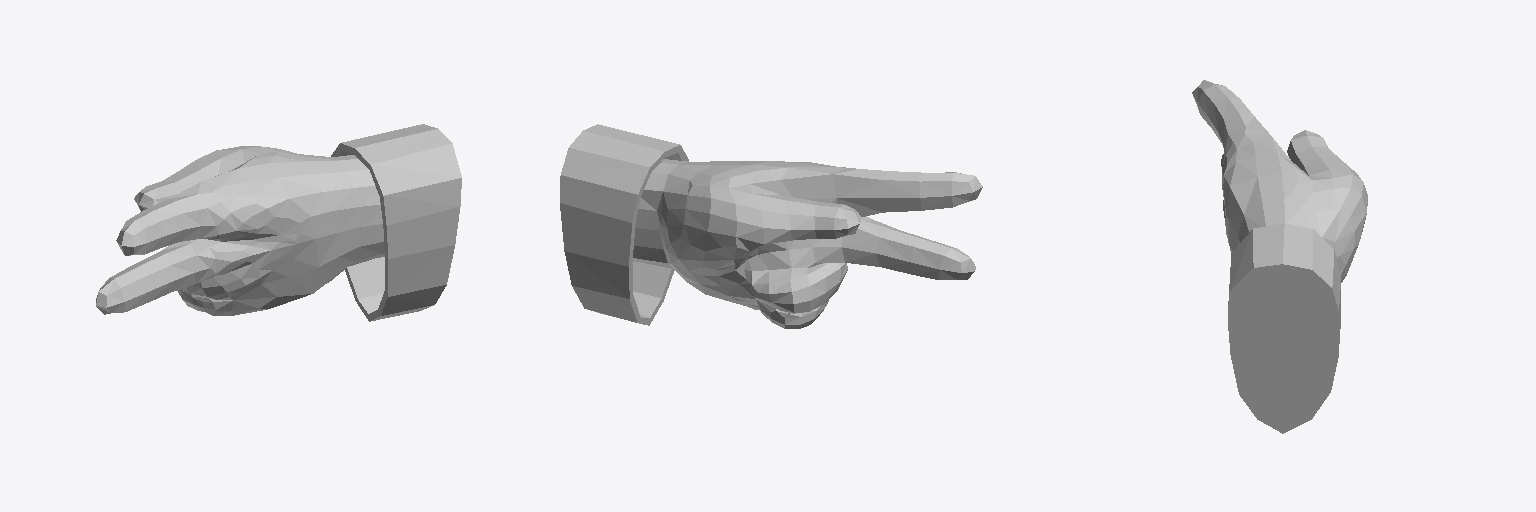
File: char1-hand-left.obj
3 views of the same model, side by side, from view 1: azimuth 30°, elevation 25°; view 2: azimuth 150°, elevation 25°; view 3: azimuth 270°, elevation 25° (orthographic).
Visible parts, largest first — view 1: hand-left; view 2: hand-left; view 3: hand-left.
Boxes of the visible parts, <box> form: hand-left: <box>96,124,461,321</box>; hand-left: <box>560,124,982,328</box>; hand-left: <box>1192,80,1367,433</box>.
Size of the model in its own units: 0.3688 by 0.1858 by 0.1531.